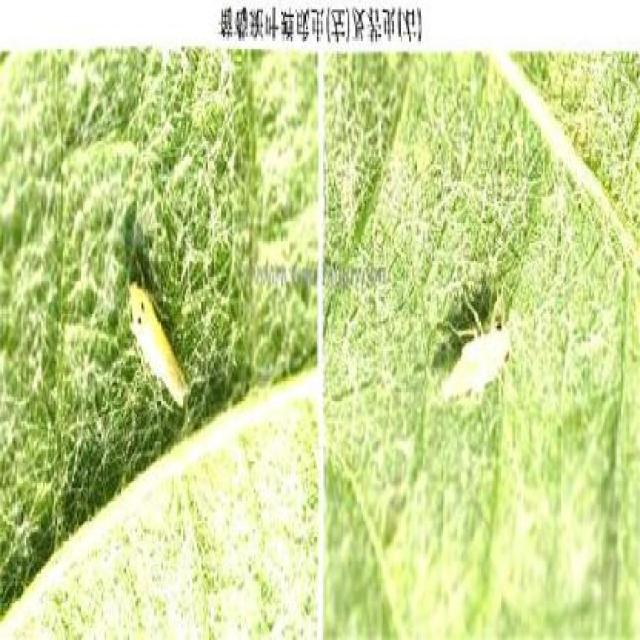green-leafhopper: (442, 287, 518, 418), (123, 269, 189, 414)
